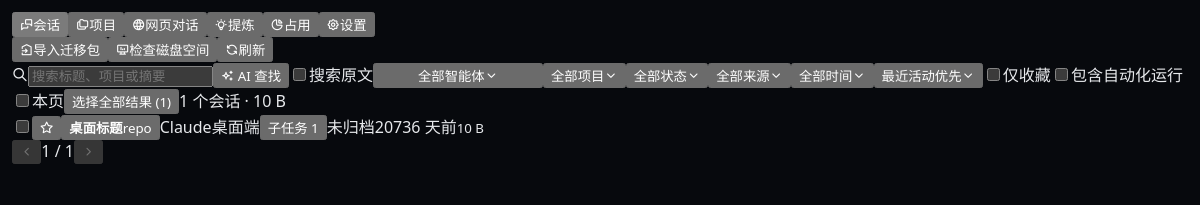
Test case: session catalog › shows subtasks without making them selectable
The image size is (1200, 205).
What coordinates should you click on to do the following:
click the button "子任务 1"
I would click on:
 (293, 128)
Its box is [260,115,327,140].
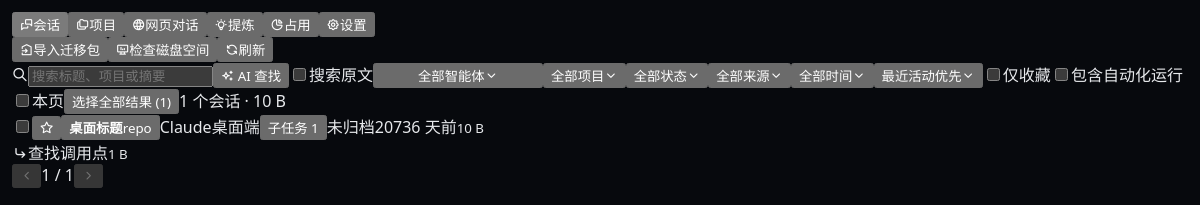
Expected: the text "查找调用点" is shown, [28,142,108,164]
